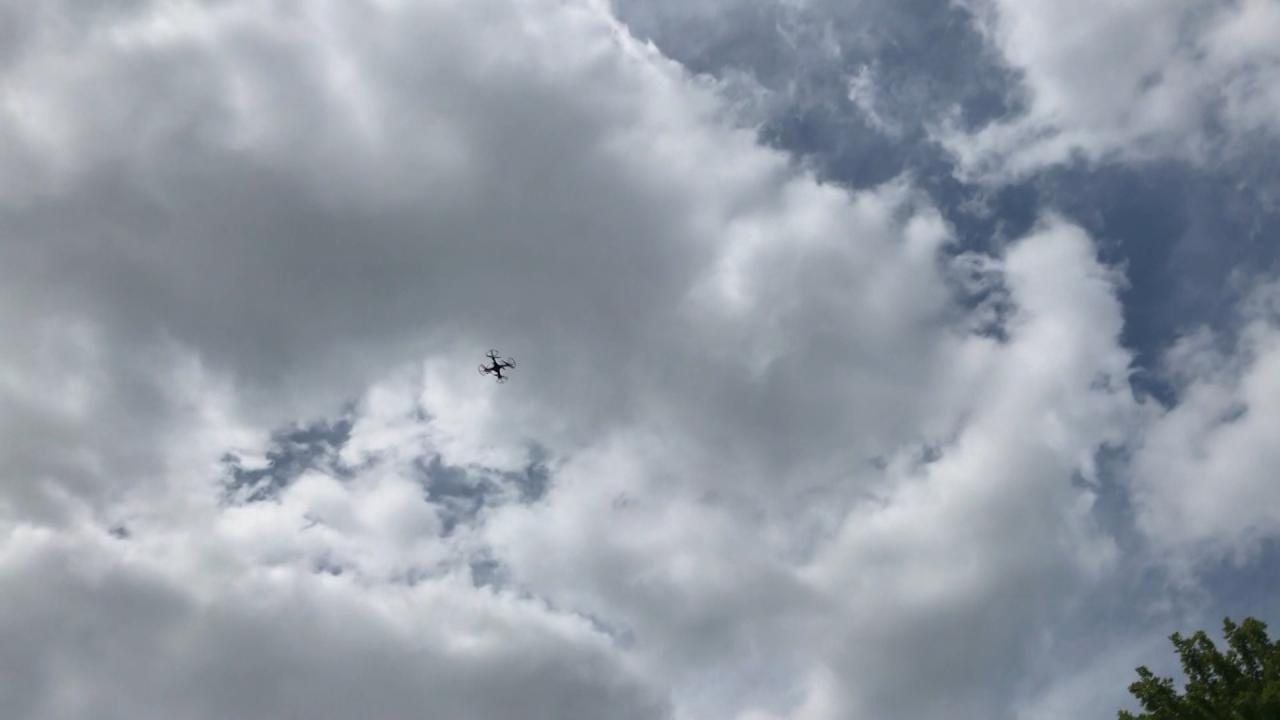Drone: (466, 341, 526, 392)
